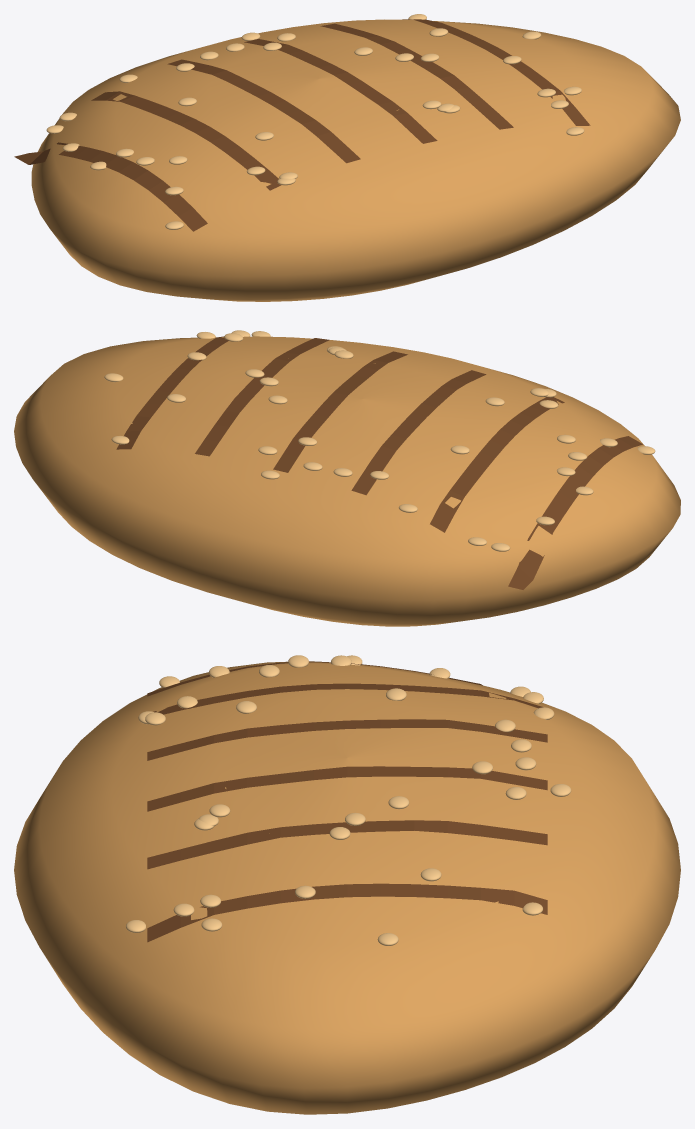
Rendered from chicken.glb.
The picture shows the model from 3 angles, top to bottom: view 1: azimuth 30°, elevation 25°; view 2: azimuth 150°, elevation 25°; view 3: azimuth 270°, elevation 25°; orthographic projection. The views are drawn at different scales.
Parts seen in each view (by area): view 1: Golden grilled breast, Batch Caramel grill marks, Batch Chicken golden edge; view 2: Golden grilled breast, Batch Caramel grill marks, Batch Chicken golden edge; view 3: Golden grilled breast, Batch Caramel grill marks, Batch Chicken golden edge.
Boxes of the visible parts, box(x1,y1,x2,y2) form: Golden grilled breast: box(31, 19, 680, 301); Batch Caramel grill marks: box(14, 19, 590, 231); Batch Chicken golden edge: box(46, 14, 584, 229); Golden grilled breast: box(14, 336, 680, 626); Batch Caramel grill marks: box(116, 336, 643, 589); Batch Chicken golden edge: box(104, 330, 655, 551); Golden grilled breast: box(14, 661, 680, 1114); Batch Caramel grill marks: box(147, 661, 547, 942); Batch Chicken golden edge: box(126, 655, 571, 945).
Bounding box in the file's own units: 0.9883 × 0.2604 × 0.7.
